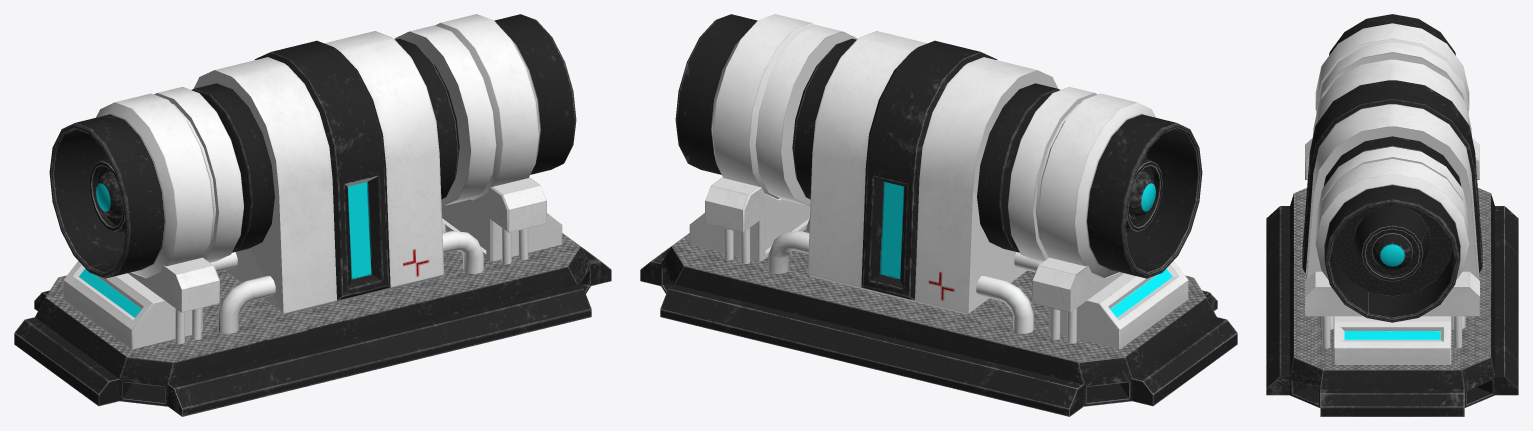
File: ScifiGenerator.glb
3 renders of one model, left to right at view 1: azimuth 30°, elevation 25°; view 2: azimuth 150°, elevation 25°; view 3: azimuth 270°, elevation 25°, orthographic. The views are drawn at different scales.
Visible parts, largest first — view 1: Generator; view 2: Generator; view 3: Generator.
Part boxes in pixels (x1,y1,x2,y2): Generator: [14, 14, 611, 416]; Generator: [640, 14, 1237, 416]; Generator: [1266, 14, 1518, 416].
Size of the model in its own units: 13.5 by 6.5 by 6.75.
1 material, 1 textured.
